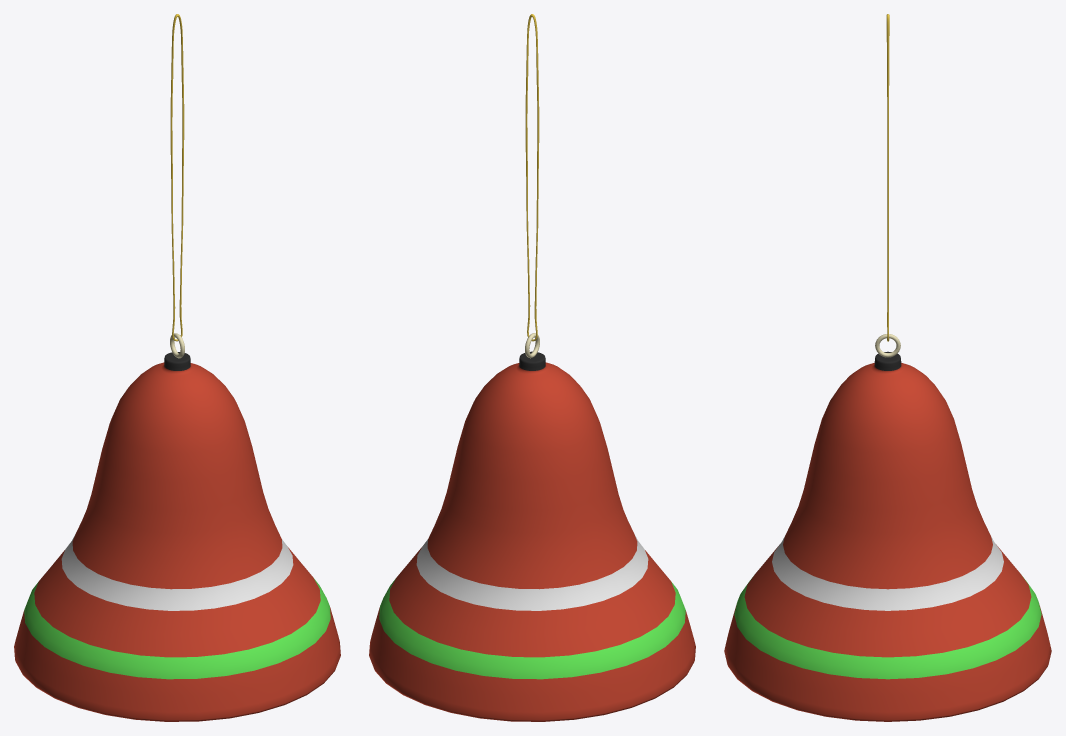
Rendered from cartoon_christmas_bell.glb.
The picture shows the model from 3 angles, left to right: view 1: azimuth 30°, elevation 25°; view 2: azimuth 150°, elevation 25°; view 3: azimuth 270°, elevation 25°; orthographic projection.
Visible parts, largest first — view 1: ChristmasBell; view 2: ChristmasBell; view 3: ChristmasBell.
Boxes of the visible parts, left/top/right/bottom form: ChristmasBell: left=14, top=14, right=340, bottom=721; ChristmasBell: left=369, top=14, right=695, bottom=721; ChristmasBell: left=724, top=14, right=1051, bottom=721.
Bounding box in the file's own units: 10.03 × 22 × 10.03.
